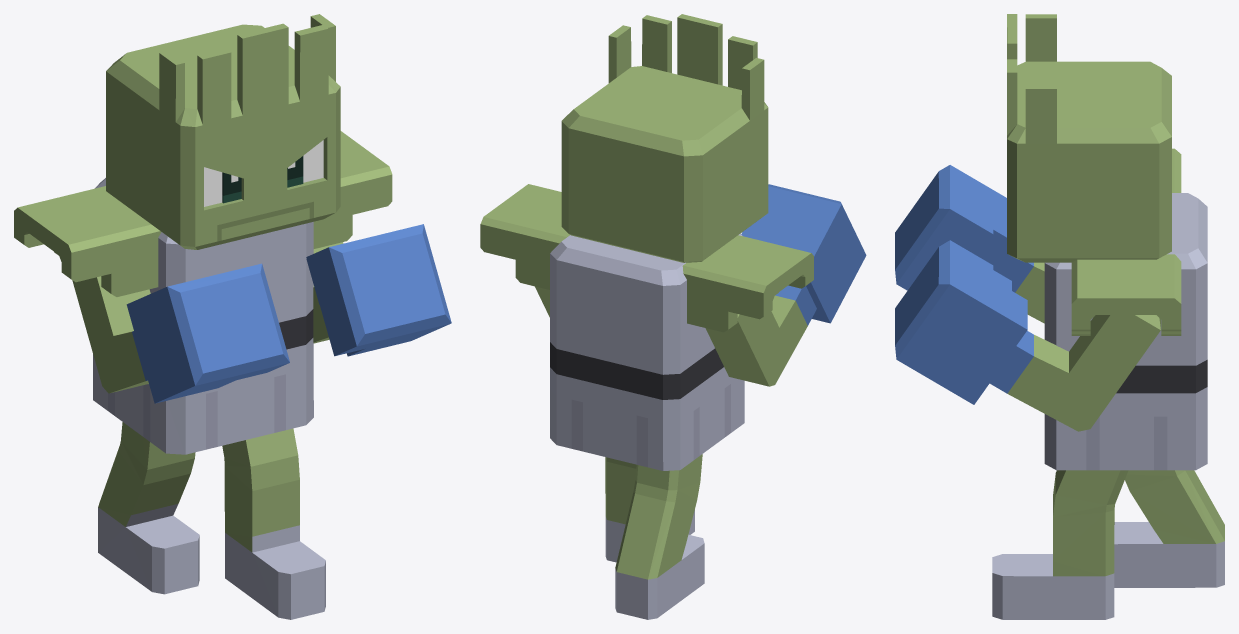
Rendered from model_shiny.obj.
3 renders of one model, left to right at view 1: azimuth 30°, elevation 25°; view 2: azimuth 150°, elevation 25°; view 3: azimuth 270°, elevation 25°, orthographic. The views are drawn at different scales.
Parts seen in each view (by area): view 1: 0107_hitmonchan_shiny; view 2: 0107_hitmonchan_shiny; view 3: 0107_hitmonchan_shiny.
Boxes of the visible parts, x1,y1,x2,y2 form: 0107_hitmonchan_shiny: (14,14,451,619); 0107_hitmonchan_shiny: (480,14,866,619); 0107_hitmonchan_shiny: (895,14,1224,619).
Size of the model in its own units: 1.66 by 2.89 by 1.54.
1 material, 1 textured.
